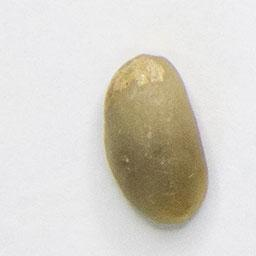longberry: (101, 49, 213, 228)
